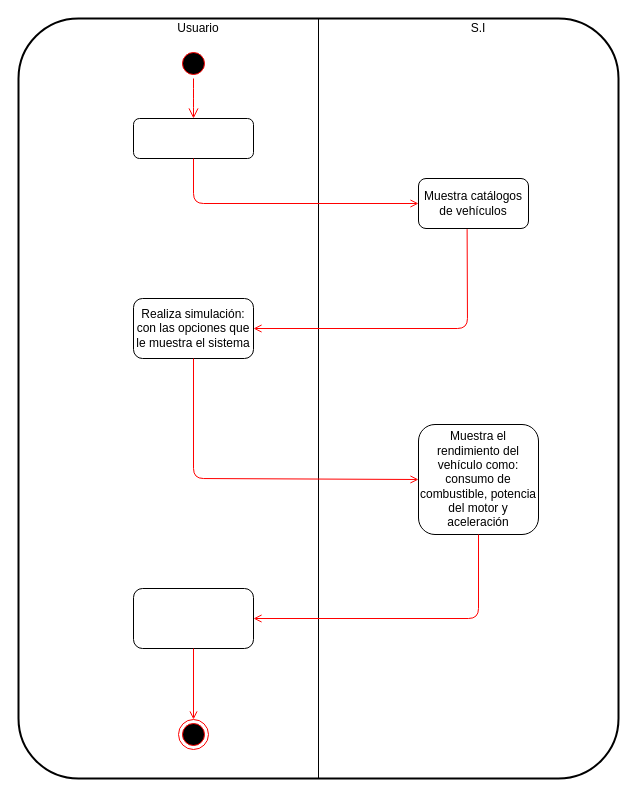
The diagram is 636 pixels wide and 797 high, and some of its shapes have lost their labels. The centre of each missing label's shape, as x and y in pixels:
Ingresa al sistema "Página web": [193,138]
Sale del sistema: [193,618]
